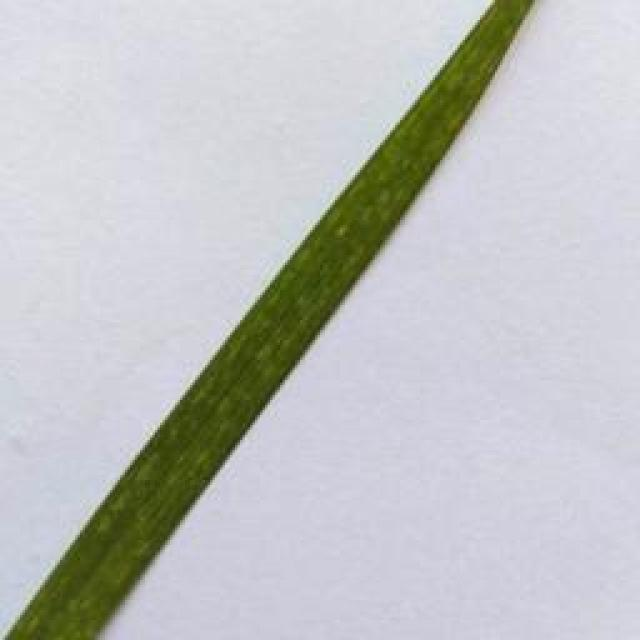Bacterial_Blight: (62, 59, 414, 586)
